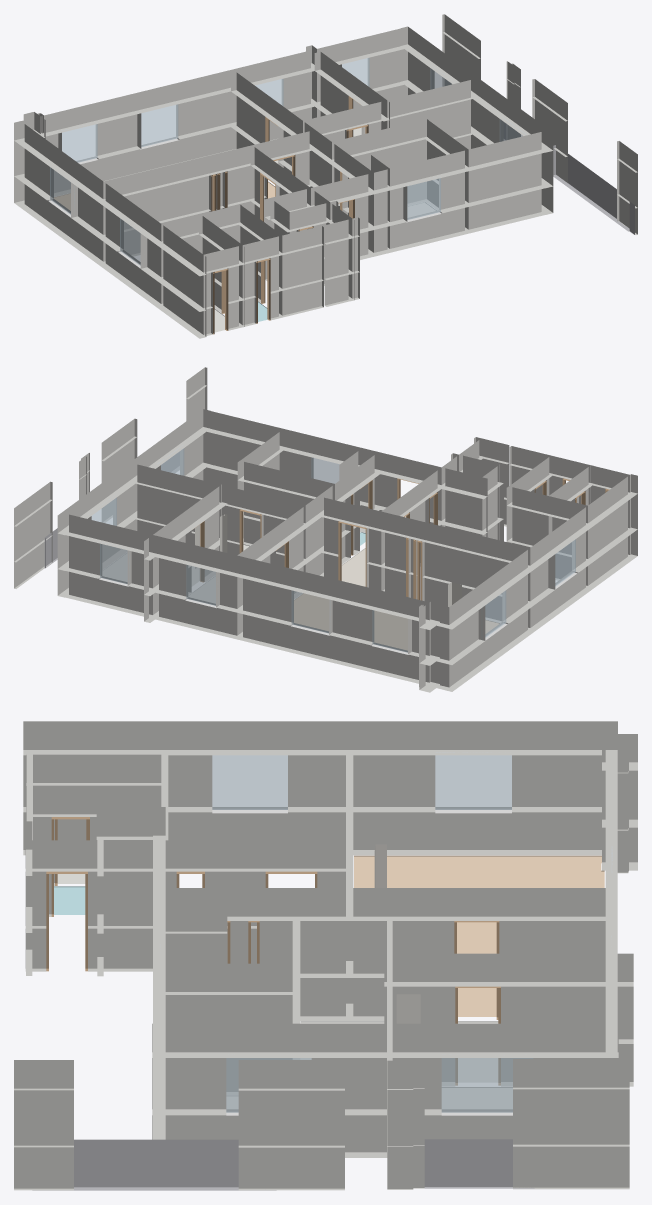
3 renders of one model, top to bottom at view 1: azimuth 30°, elevation 25°; view 2: azimuth 150°, elevation 25°; view 3: azimuth 270°, elevation 25°, orthographic. The views are drawn at different scales.
Parts seen in each view (by area): view 1: walls, railings, window_18, window_9, window_17, window_16, window_11, window_19; view 2: walls, floor_0_Living_Room, window_18, window_17, window_13, window_19, window_16, railings, window_11, floor_4_Entry, window_9, floor_2_Undefined; view 3: walls, railings, floor_0_Living_Room, window_16, window_11, window_15, floor_2_Undefined, floor_1_Undefined, floor_8_Bath, window_21, furniture_1_closet, door_1.
Part boxes in pixels (x1,y1,x2,y2): walls: (14,14,637,338); railings: (504,122,634,234); window_18: (139,104,178,146); window_9: (407,178,440,219); window_17: (62,124,97,162); window_16: (50,167,74,214); window_11: (120,218,140,265); window_19: (342,58,369,86); walls: (14,367,637,692); floor_0_Living_Room: (294,593,499,650); window_18: (291,590,328,633); window_17: (372,610,407,652); window_13: (186,565,215,605); window_19: (100,542,129,583); window_16: (485,590,506,637); railings: (44,451,179,568); window_11: (555,539,575,586); floor_4_Entry: (341,548,365,586); window_9: (311,457,339,483); floor_2_Undefined: (102,553,199,586); walls: (14,721,637,1190); railings: (32,1139,534,1190); floor_0_Living_Room: (354,855,604,1016); window_16: (435,752,511,809); window_11: (212,755,287,809); window_15: (441,1058,533,1112); floor_2_Undefined: (442,1087,512,1108); floor_1_Undefined: (458,1021,498,1082); floor_8_Bath: (54,886,85,914); window_21: (226,1058,311,1112); furniture_1_closet: (396,994,420,1023); door_1: (46,871,87,971).
Bounding box in the file's own units: 15.35 × 2.72 × 11.88.
